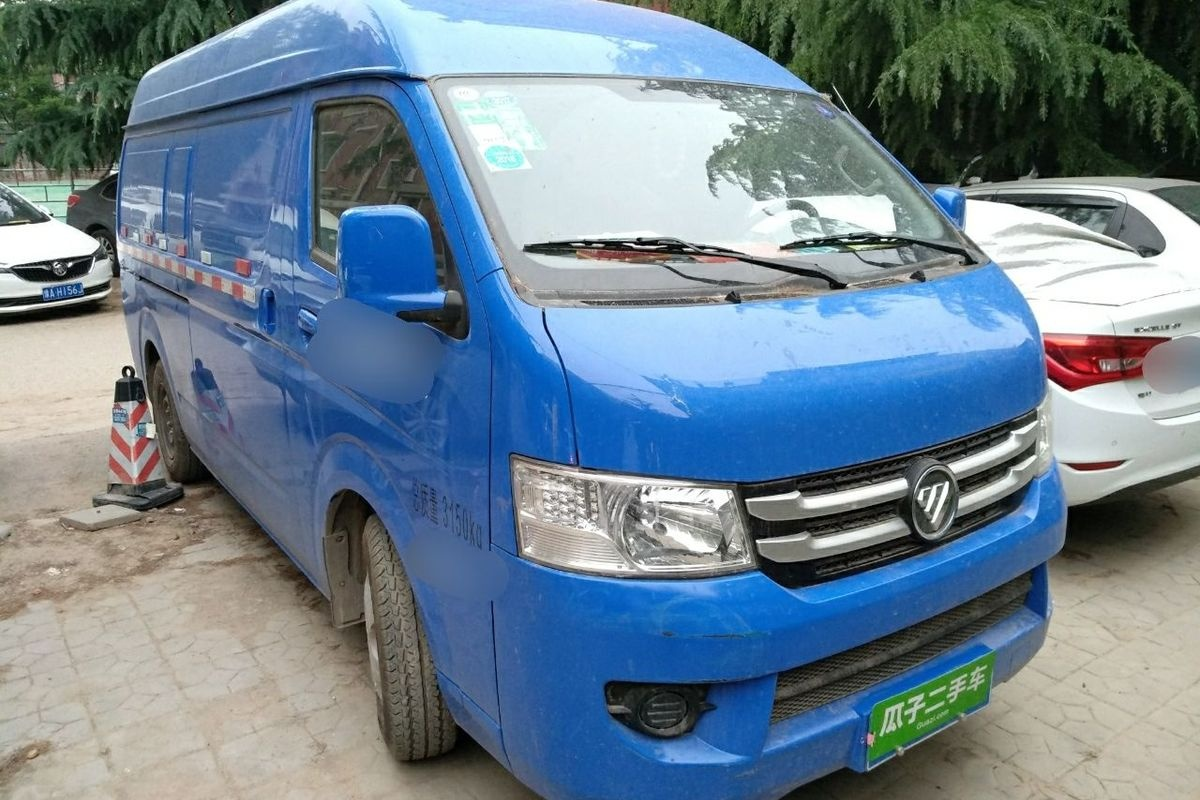minibus: (110, 13, 1067, 800)
